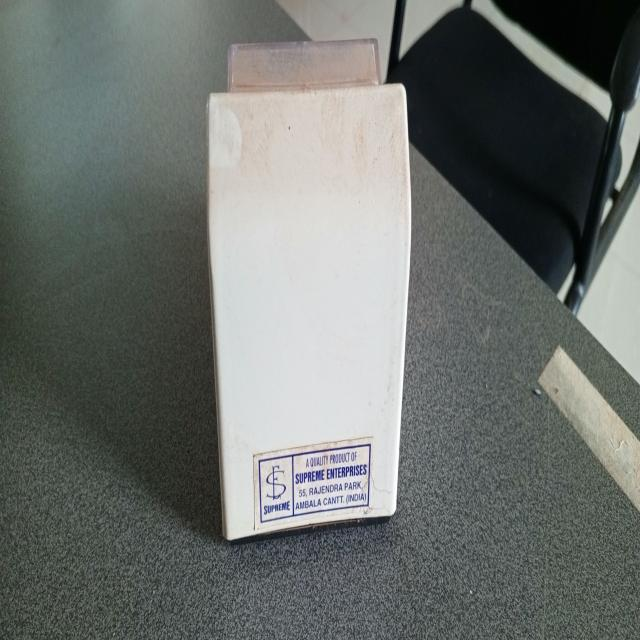Ammeter Analog: (193, 42, 424, 544)
